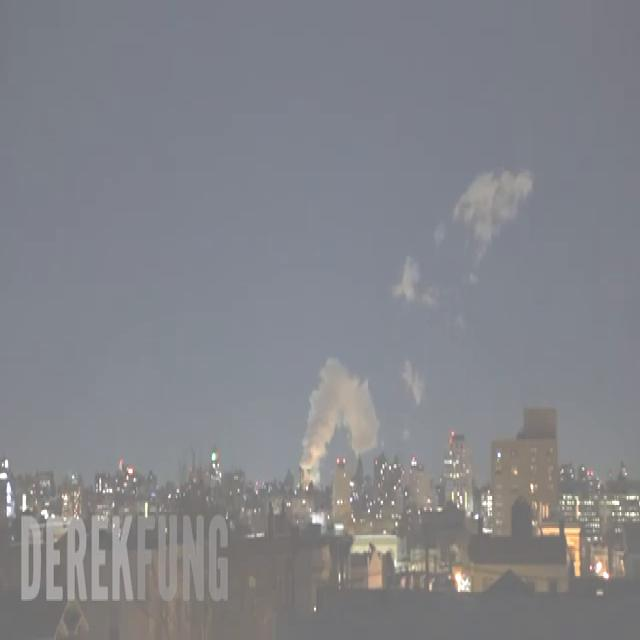smoke: (300, 359, 379, 484)
